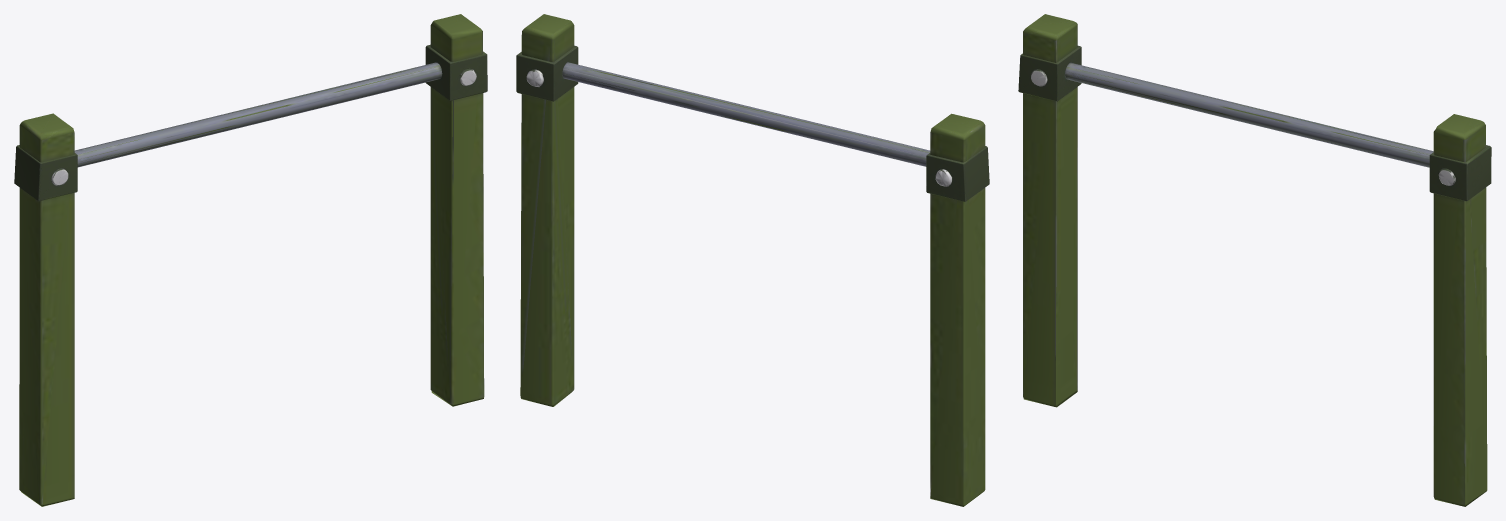
Rendered from pullup.glb.
The picture shows the model from 3 angles, left to right: view 1: azimuth 30°, elevation 25°; view 2: azimuth 150°, elevation 25°; view 3: azimuth 330°, elevation 25°; orthographic projection.
Size of the model in its own units: 0.957 by 0.7578 by 0.1025.
Materials: 1 (1 with a texture image).
